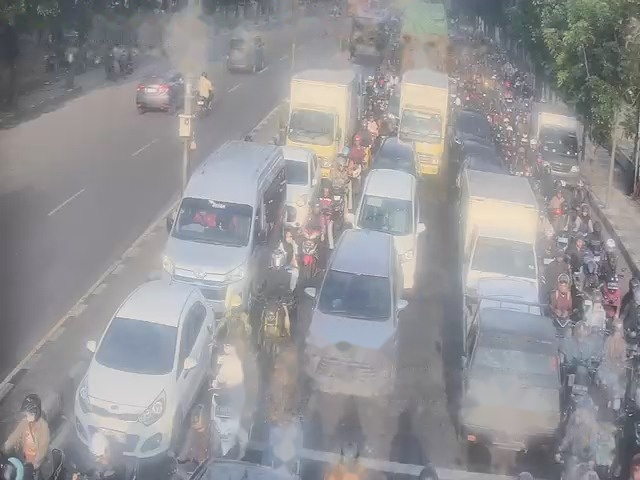Bis: (171, 144, 285, 305)
Mobil: (87, 271, 209, 454), (463, 301, 564, 446), (311, 231, 390, 392), (460, 176, 539, 312), (350, 169, 413, 237), (532, 103, 582, 182), (135, 50, 180, 111), (369, 136, 417, 175), (454, 109, 493, 153), (222, 397, 236, 444), (624, 331, 635, 371), (554, 301, 569, 330), (574, 378, 586, 414), (349, 157, 363, 184), (328, 189, 344, 212), (603, 281, 616, 306), (552, 202, 564, 224), (583, 288, 593, 312), (590, 238, 598, 261), (198, 96, 209, 112), (558, 230, 564, 251), (519, 164, 526, 178)
Motor: (265, 297, 285, 353), (266, 242, 285, 277), (302, 226, 319, 263)
Truk: (286, 72, 358, 171), (403, 78, 446, 168)
